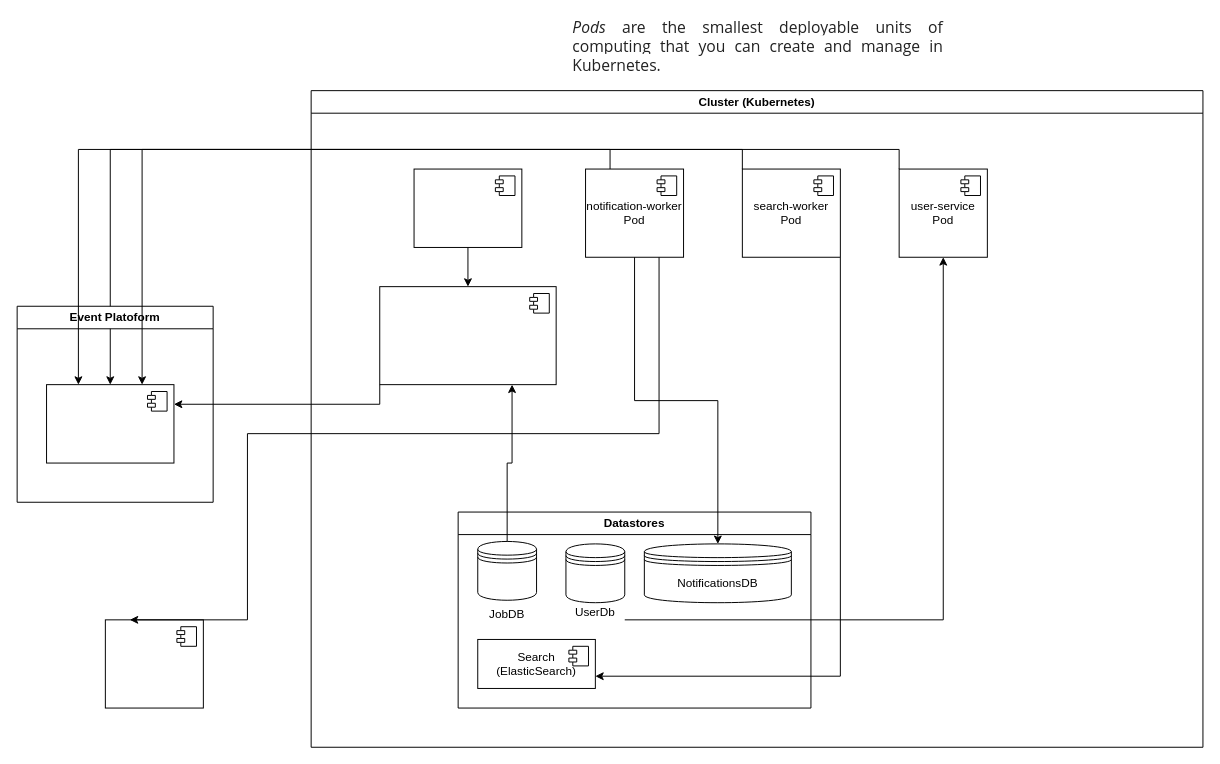
Image size: 1220x764. Some labels were removed from this diagram. The centre of each missing label's shape, as x and y in pixels:
api-gateway Pod: the point at 467,207
Email Provider: the point at 153,663
job-command-Pod: the point at 467,335
Kafka Cluster: the point at 110,423
